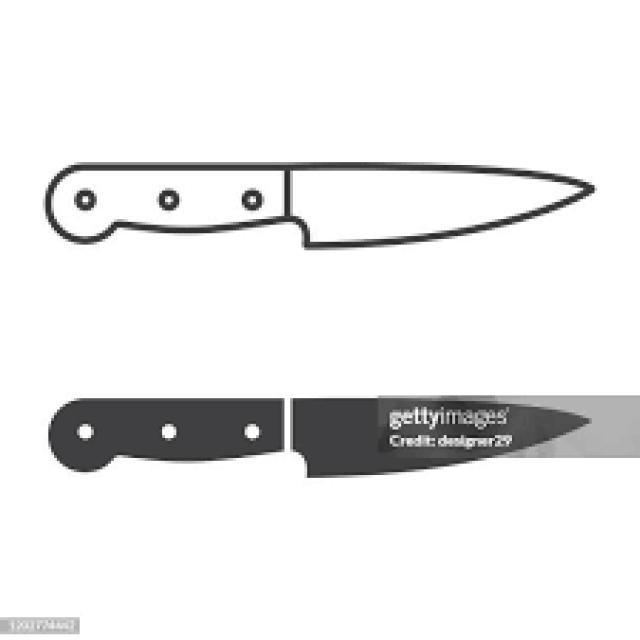Knife: (42, 160, 594, 248), (46, 393, 637, 475)
